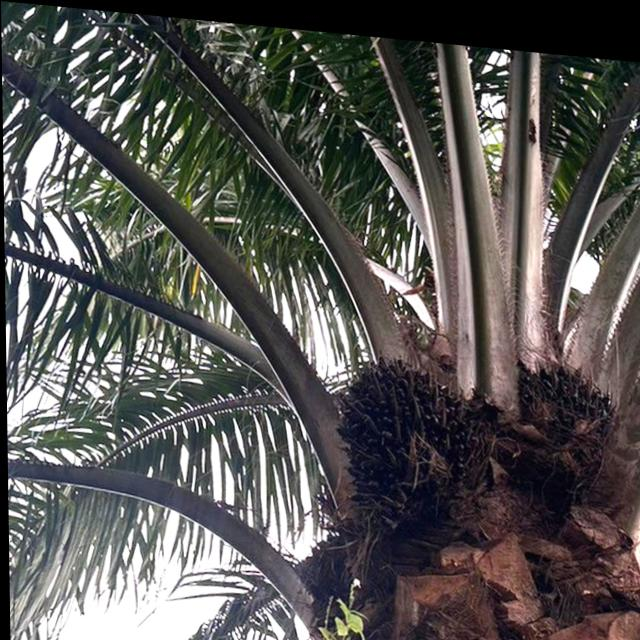ripe: (326, 336, 486, 506)
